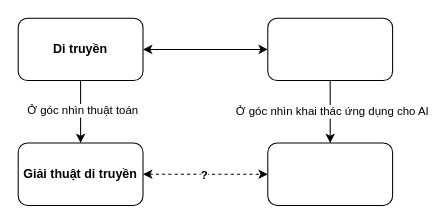
This 446x224 diagram has some shape labels left out. Here are the shapes that lost their labels. From the top down, the box of each, then its label:
(267, 17, 393, 81): Tư duy
(267, 142, 393, 205): Neural Network
